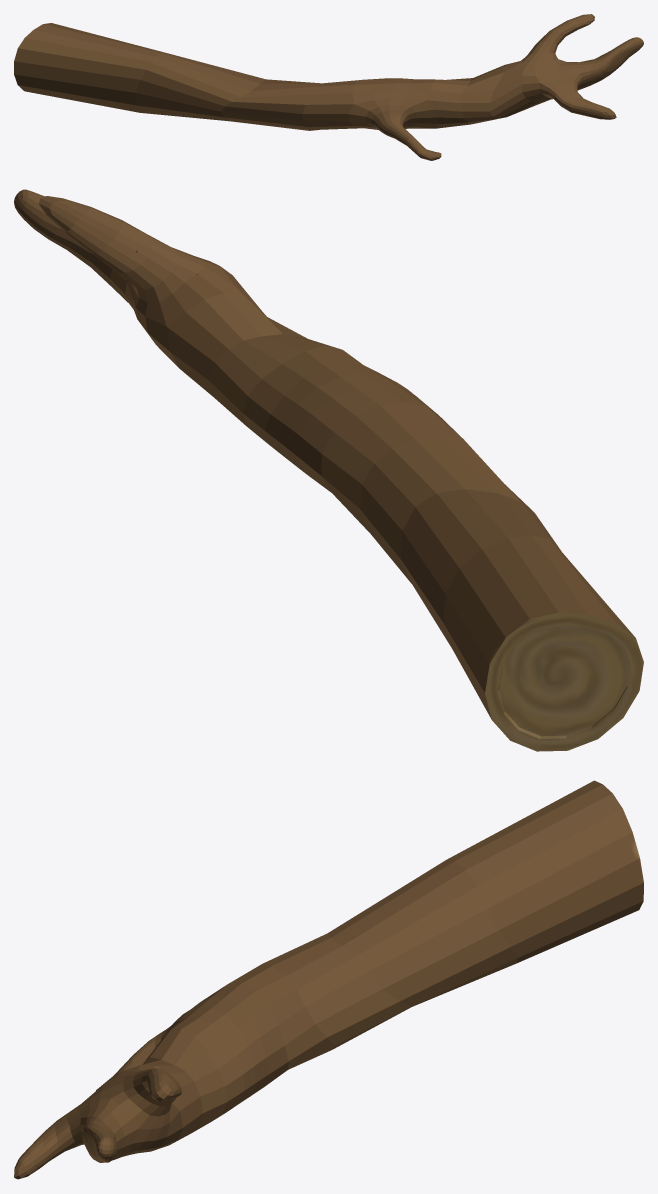
The model's file is rama.obj.
3 views of the same model, one above another, from view 1: azimuth 30°, elevation 25°; view 2: azimuth 150°, elevation 25°; view 3: azimuth 270°, elevation 25° (orthographic). The views are drawn at different scales.
Parts seen in each view (by area): view 1: frosty_ramas; view 2: frosty_ramas; view 3: frosty_ramas.
Boxes of the visible parts, x1,y1,x2,y2 form: frosty_ramas: (14, 14, 643, 160); frosty_ramas: (14, 189, 643, 751); frosty_ramas: (14, 780, 643, 1179).
Size of the model in its own units: 0.826 by 0.1507 by 0.5887.
Materials: 1 (1 with a texture image).
